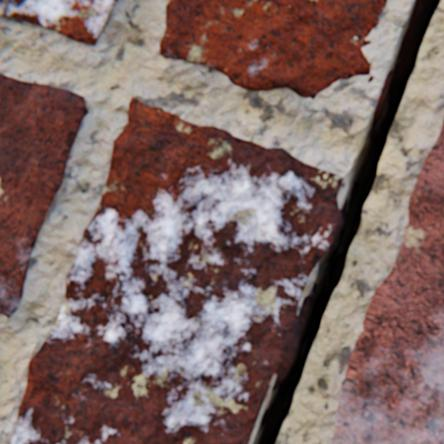brick: (12, 98, 343, 443), (332, 118, 443, 443), (160, 0, 387, 99), (0, 74, 88, 317), (0, 0, 118, 46), (368, 77, 372, 83)
crack: (253, 0, 442, 443)
